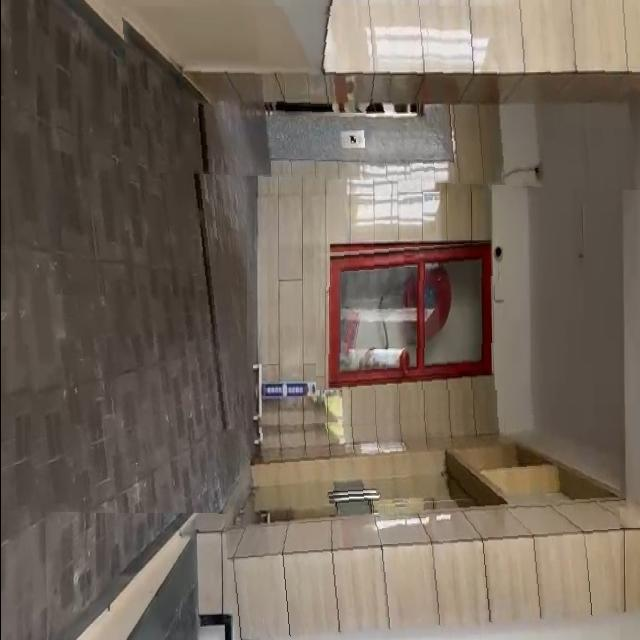door: (315, 240, 516, 390)
floor: (0, 136, 246, 514)
wall: (119, 6, 640, 191), (215, 403, 619, 640)
